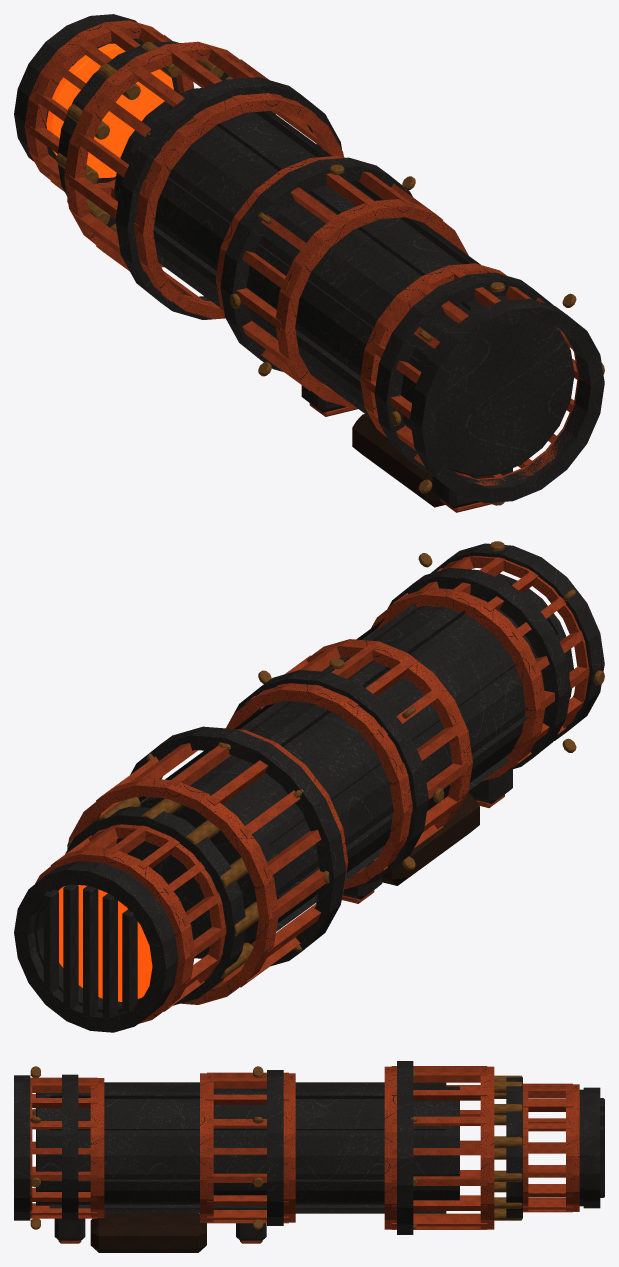
File: kiln-focus-ready.glb
3 renders of one model, top to bottom at view 1: azimuth 30°, elevation 25°; view 2: azimuth 150°, elevation 25°; view 3: azimuth 270°, elevation 25°, orthographic. The views are drawn at different scales.
Visible parts, largest first — view 1: Forged barrel core, Machined barrel rim, Ceramic vent header, Machined barrel rim.003, Ceramic vent header.003, Machined barrel rim.002, Machined barrel rim.001, Ceramic vent footer, Ceramic vent footer.001, Banked ember recessed chamber, Ceramic vent footer.002, Insulated palm grip (+23 smaller); view 2: Forged barrel core, Muzzle lip, Machined barrel rim.003, Ceramic vent footer, Machined barrel rim.001, Ceramic vent footer.003, Ceramic vent footer.002, Machined barrel rim.004, Machined barrel rim.002, Ceramic vent header.003, Machined barrel rim, Ceramic vent footer.001 (+28 smaller); view 3: Forged barrel core, Insulated palm grip, Machined barrel rim.003, Machined barrel rim.002, Machined barrel rim.001, Machined barrel rim, Ceramic vent footer, Muzzle lip, Ceramic vent header, Ceramic vent footer.002, Ceramic vent header.003, Machined barrel rim.004 (+48 smaller).
Part boxes in pixels (x1,y1,x2,y2): Forged barrel core: (114,87,574,476); Machined barrel rim: (410,298,604,503); Ceramic vent header: (134,93,343,319); Machined barrel rim.003: (115,77,341,319); Ceramic vent header.003: (275,199,468,407); Machined barrel rim.002: (220,157,412,371); Machined barrel rim.001: (374,272,553,472); Ceramic vent footer: (64,41,275,267); Ceramic vent footer.001: (24,20,194,196); Banked ember recessed chamber: (46,43,173,178); Ceramic vent footer.002: (360,263,506,436); Insulated palm grip: (352,414,444,507); Forged barrel core: (116,573,573,958); Muzzle lip: (14,861,177,1032); Machined barrel rim.003: (130,726,346,966); Ceramic vent footer: (67,778,278,1004); Machined barrel rim.001: (387,568,570,770); Ceramic vent footer.003: (226,683,412,889); Ceramic vent footer.002: (371,587,545,781); Machined barrel rim.004: (65,806,245,1005); Machined barrel rim.002: (227,670,428,888); Ceramic vent header.003: (306,639,472,828); Machined barrel rim: (430,543,604,740); Ceramic vent footer.001: (35,847,195,1023); Forged barrel core: (36,1086,459,1209); Insulated palm grip: (90,1213,206,1252); Machined barrel rim.003: (397,1061,413,1234); Machined barrel rim.002: (267,1070,283,1225); Machined barrel rim.001: (62,1074,78,1221); Machined barrel rim: (14,1075,30,1220); Ceramic vent footer: (480,1066,494,1229); Muzzle lip: (583,1087,600,1208); Ceramic vent header: (384,1066,396,1229); Ceramic vent footer.002: (90,1078,104,1217); Ceramic vent header.003: (200,1073,213,1222); Machined barrel rim.004: (506,1077,522,1218).
Size of the model in its own units: 0.256 by 0.2875 by 0.864.
5 materials, 4 textured.
